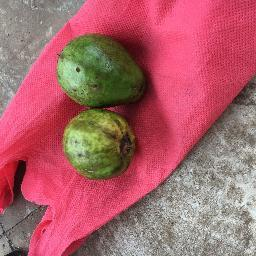Good_guava: (56, 36, 145, 107), (64, 109, 134, 178)
